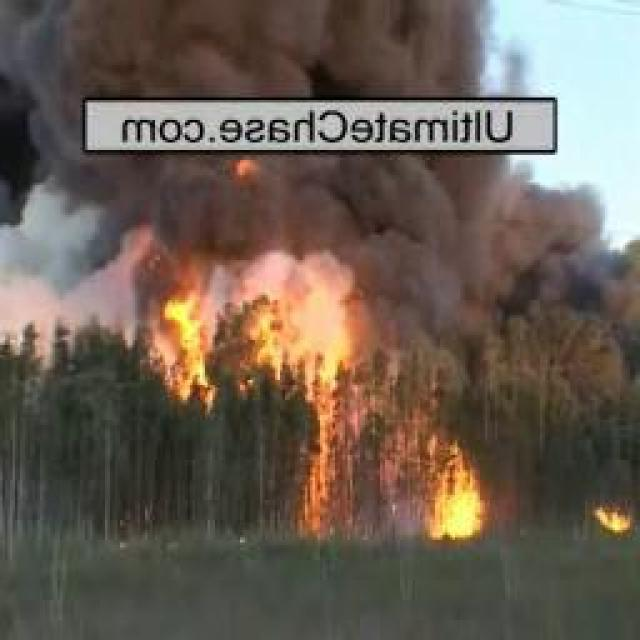Fire: (148, 260, 224, 402), (303, 339, 352, 542), (427, 428, 487, 535), (593, 503, 633, 534)
